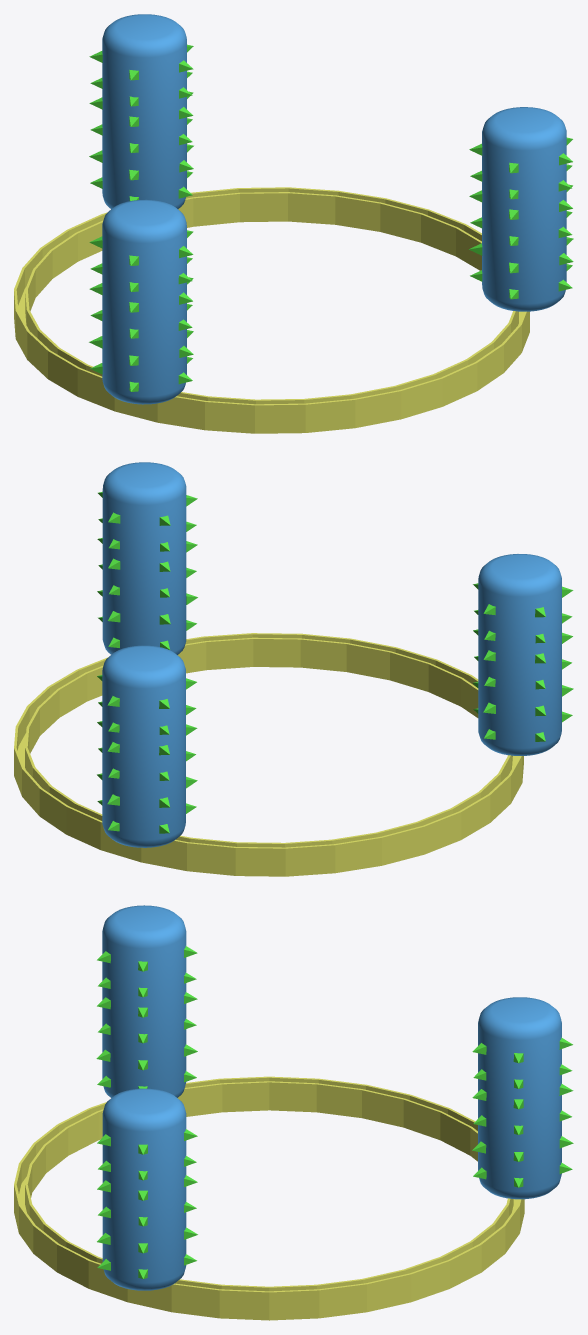
File: obstacle03.fbx
3 views of the same model, one above another, from view 1: azimuth 30°, elevation 25°; view 2: azimuth 150°, elevation 25°; view 3: azimuth 270°, elevation 25° (orthographic).
Visible parts, largest first — view 1: obstacle03.1, obstacle03.2, obstacle03.3, obstacle03.4; view 2: obstacle03.1, obstacle03.4, obstacle03.2, obstacle03.3; view 3: obstacle03.1, obstacle03.3, obstacle03.4, obstacle03.2.
Part boxes in pixels (x1,y1,x2,y2): obstacle03.1: (14,187,529,433); obstacle03.2: (89,199,193,404); obstacle03.3: (469,107,573,311); obstacle03.4: (89,14,193,208); obstacle03.1: (14,633,523,876); obstacle03.4: (97,645,197,847); obstacle03.2: (473,554,573,755); obstacle03.3: (97,462,197,654); obstacle03.1: (14,1076,524,1320); obstacle03.3: (97,1088,197,1290); obstacle03.4: (472,997,573,1199); obstacle03.2: (96,905,197,1097).
Bounding box in the file's own units: 161 × 67.1 × 169.
